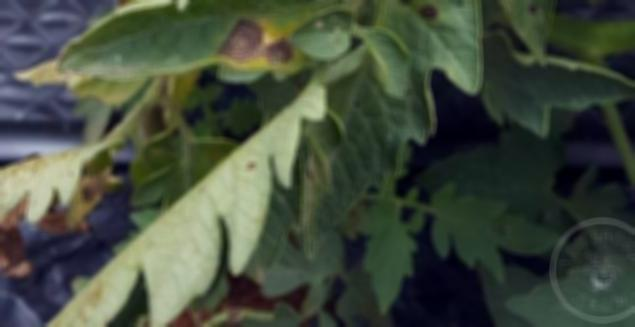Tomato Early blight leaf: (17, 0, 390, 91)
Tomato leaf: (467, 23, 635, 144), (424, 173, 566, 278)
